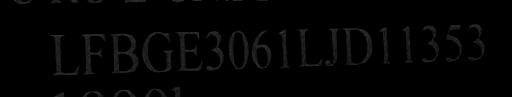letter: (46, 30, 82, 79), (138, 29, 176, 74), (104, 30, 140, 77), (172, 27, 206, 72), (340, 24, 374, 67), (77, 30, 107, 77), (294, 24, 324, 69), (224, 26, 252, 73), (462, 20, 488, 65), (248, 25, 274, 70), (202, 27, 226, 74), (416, 21, 442, 64), (439, 21, 465, 64), (394, 23, 418, 66), (320, 25, 344, 68), (274, 26, 294, 71), (374, 23, 394, 66)
